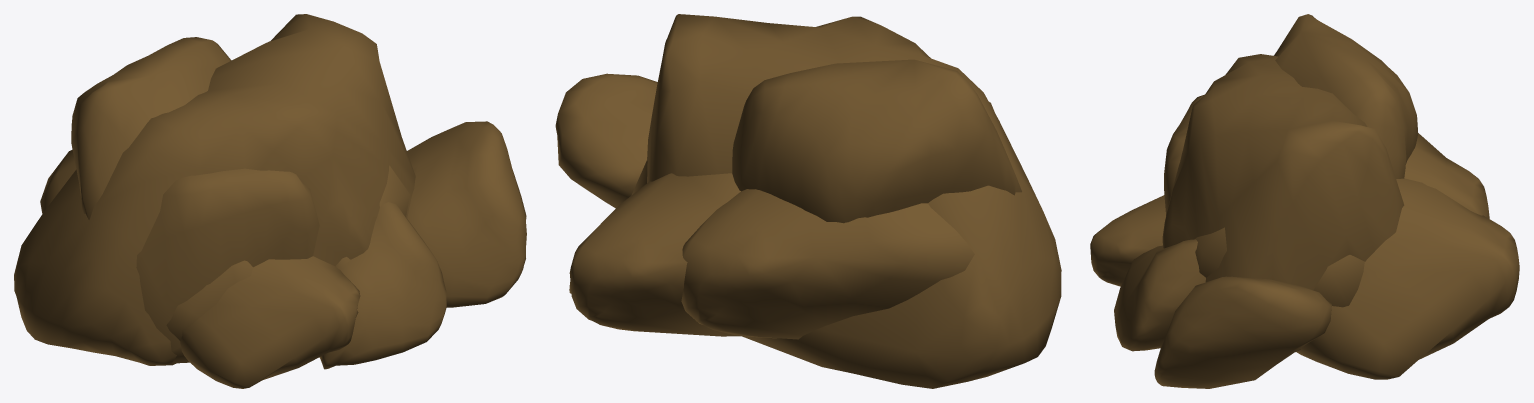
The model's file is PedrasComMusgo.fbx.
The picture shows the model from 3 angles, left to right: view 1: azimuth 30°, elevation 25°; view 2: azimuth 150°, elevation 25°; view 3: azimuth 270°, elevation 25°; orthographic projection. The views are drawn at different scales.
Parts seen in each view (by area): view 1: PedraGrandeMusgo, PedraMediaMusgo, Pedregulho, PedraPequenaMusgo; view 2: PedraGrandeMusgo, Pedregulho, PedraMediaMusgo; view 3: PedraGrandeMusgo, Pedregulho, PedraMediaMusgo, PedraPequenaMusgo.
Part boxes in pixels (bbox=[...]): PedraGrandeMusgo: bbox=[14, 14, 526, 388]; PedraMediaMusgo: bbox=[40, 149, 446, 369]; Pedregulho: bbox=[71, 37, 350, 340]; PedraPequenaMusgo: bbox=[379, 165, 409, 216]; PedraGrandeMusgo: bbox=[555, 14, 1061, 388]; Pedregulho: bbox=[569, 59, 1021, 336]; PedraMediaMusgo: bbox=[681, 102, 994, 339]; PedraGrandeMusgo: bbox=[1090, 54, 1404, 388]; Pedregulho: bbox=[1274, 14, 1519, 379]; PedraMediaMusgo: bbox=[1114, 94, 1489, 351]; PedraPequenaMusgo: bbox=[1195, 227, 1364, 307].
Bounding box in the file's own units: 225 × 122 × 197.
